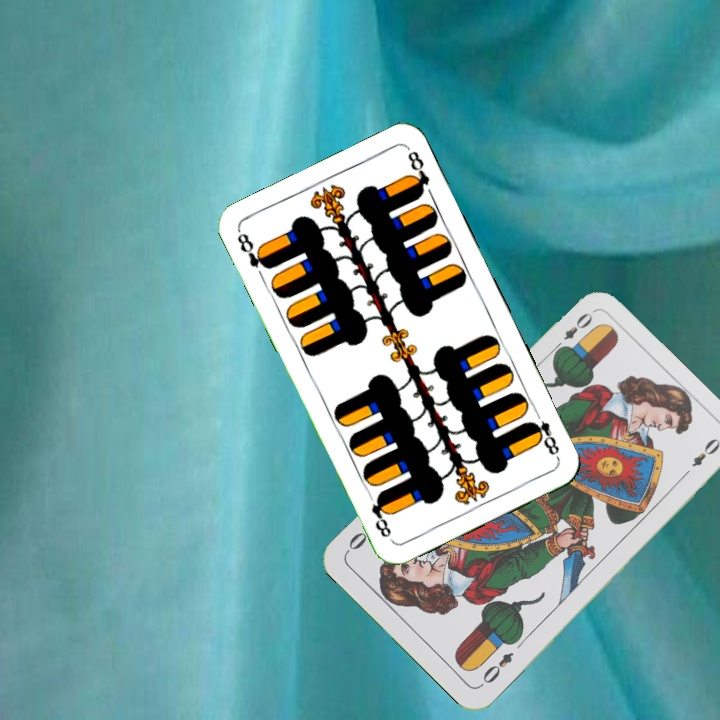E8: (525, 406, 562, 462), (233, 227, 273, 272)
EO: (549, 308, 596, 355), (476, 648, 516, 690)
